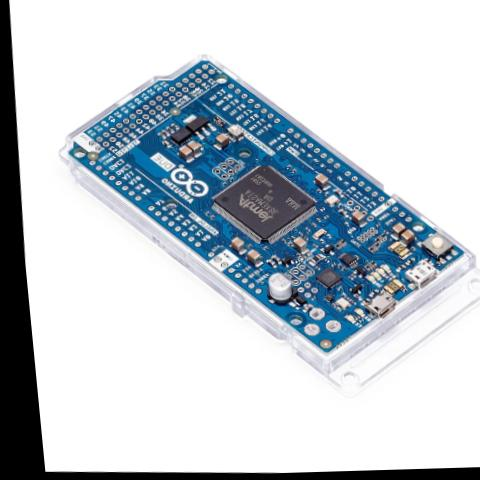Arduino-Due: (34, 42, 480, 373)
